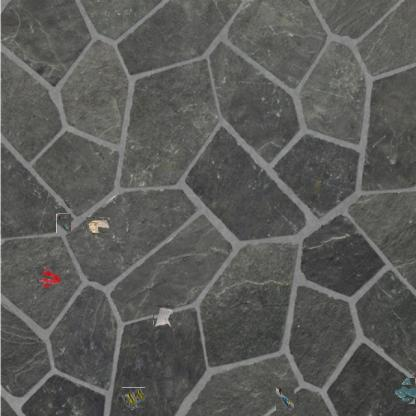dirty: (122, 387, 145, 409), (153, 306, 173, 328), (276, 387, 294, 411), (86, 217, 110, 233), (56, 213, 71, 233)
liquid: (39, 266, 59, 286), (397, 381, 416, 401)
